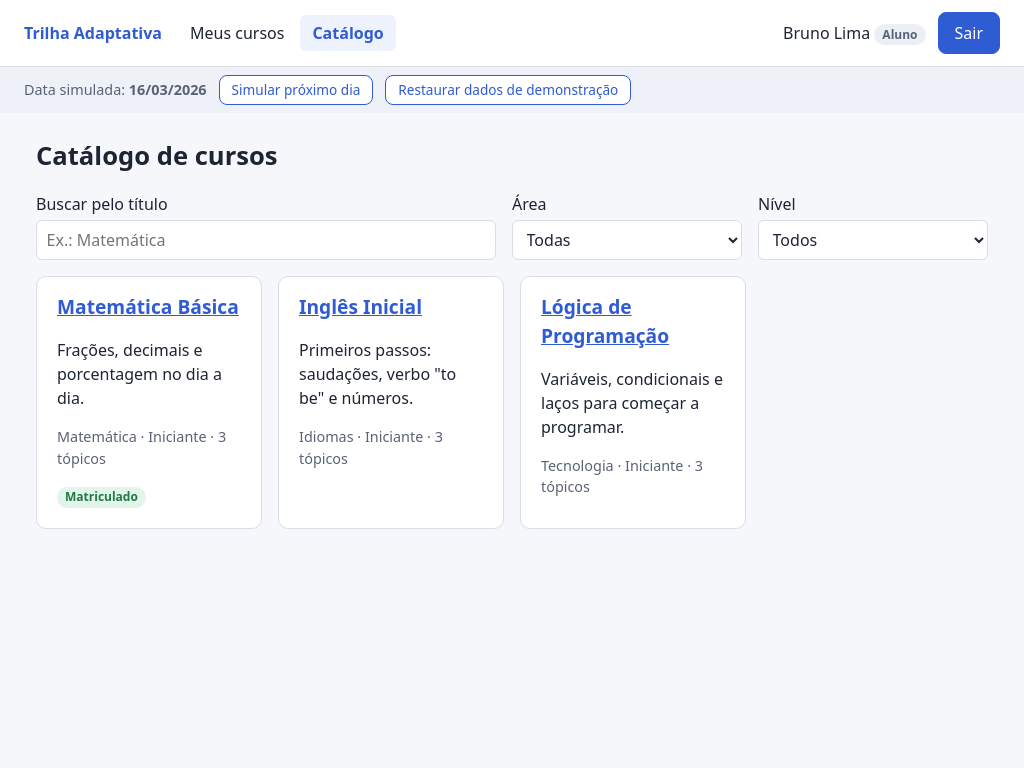
Test: catálogo › filtra por área
Select "Matemática" in the dropdown labelled "Área" at [627, 240], box left=512, top=220, right=742, bottom=260
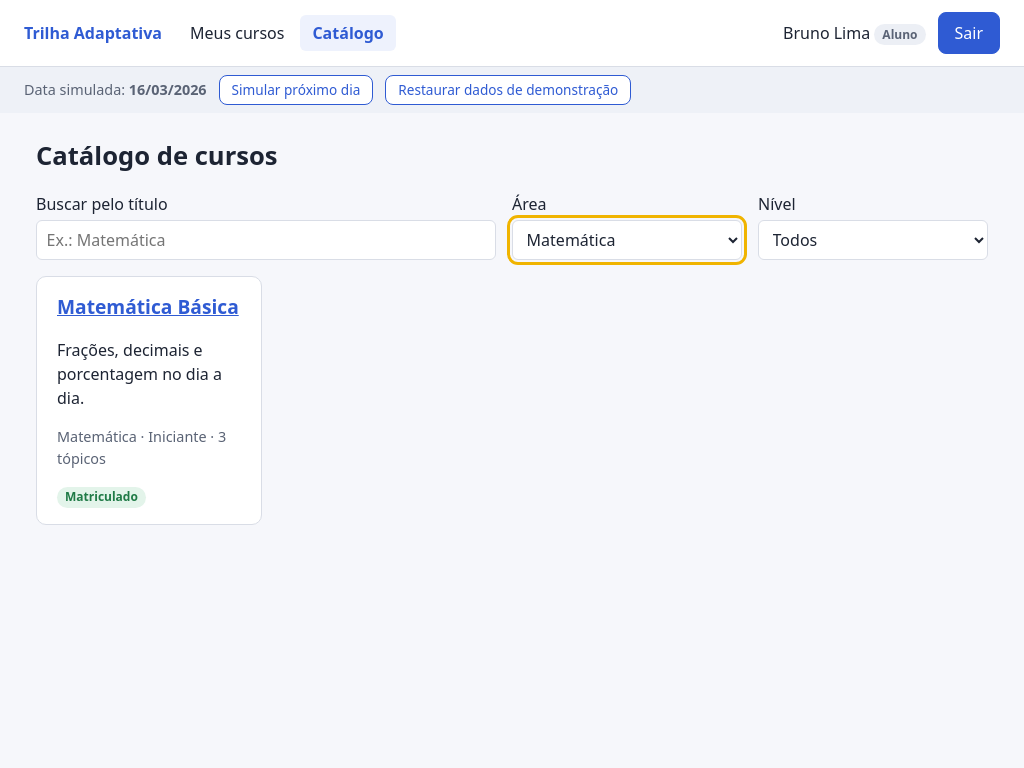
Expected: the link "Matemática Básica" is shown, left=57, top=293, right=239, bottom=320
Result: the link "Inglês Inicial" is gone
